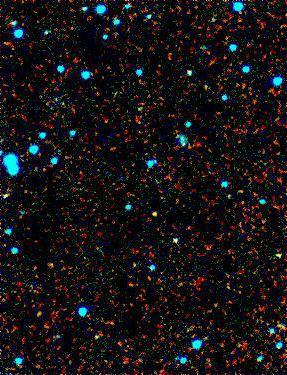star: (142, 199, 172, 229)
